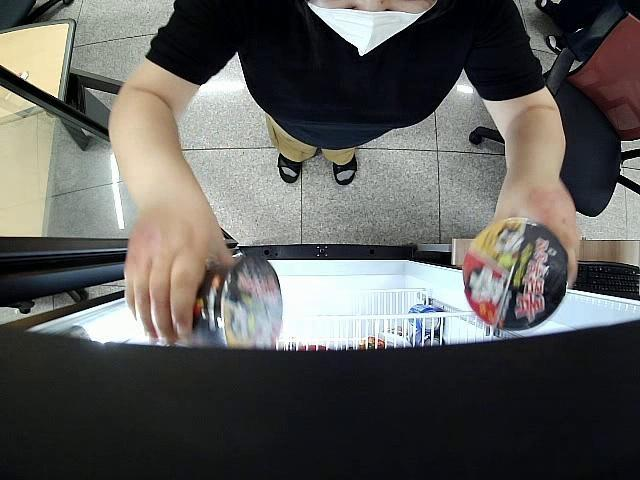08_buldak_S: (464, 218, 568, 331), (170, 248, 283, 352)
